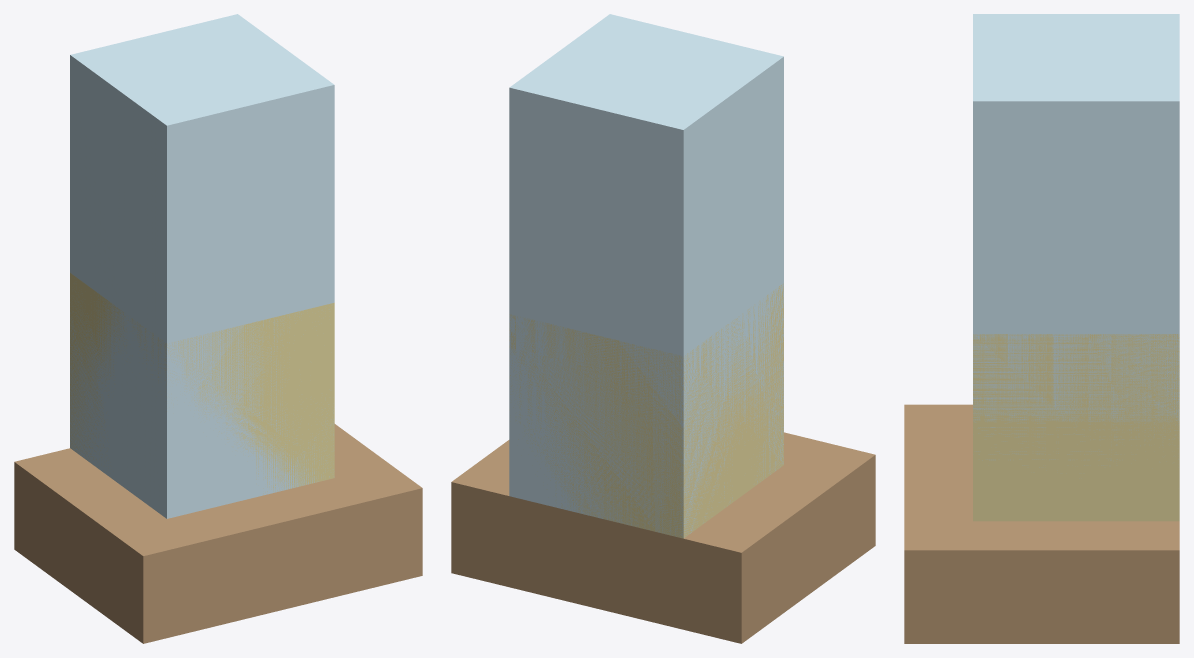
Rendered from Prop_Pet_AMF_Feeder_V13.glb.
The picture shows the model from 3 angles, left to right: view 1: azimuth 30°, elevation 25°; view 2: azimuth 150°, elevation 25°; view 3: azimuth 270°, elevation 25°; orthographic projection. The views are drawn at different scales.
Visible parts, largest first — view 1: Prop_Pet_AMF_Feeder_V13; view 2: Prop_Pet_AMF_Feeder_V13; view 3: Prop_Pet_AMF_Feeder_V13.
Part boxes in pixels (x1,y1,x2,y2): Prop_Pet_AMF_Feeder_V13: (14,14,422,643); Prop_Pet_AMF_Feeder_V13: (451,14,875,643); Prop_Pet_AMF_Feeder_V13: (904,14,1179,643).
Size of the model in its own units: 0.5 by 0.8225 by 0.4.
